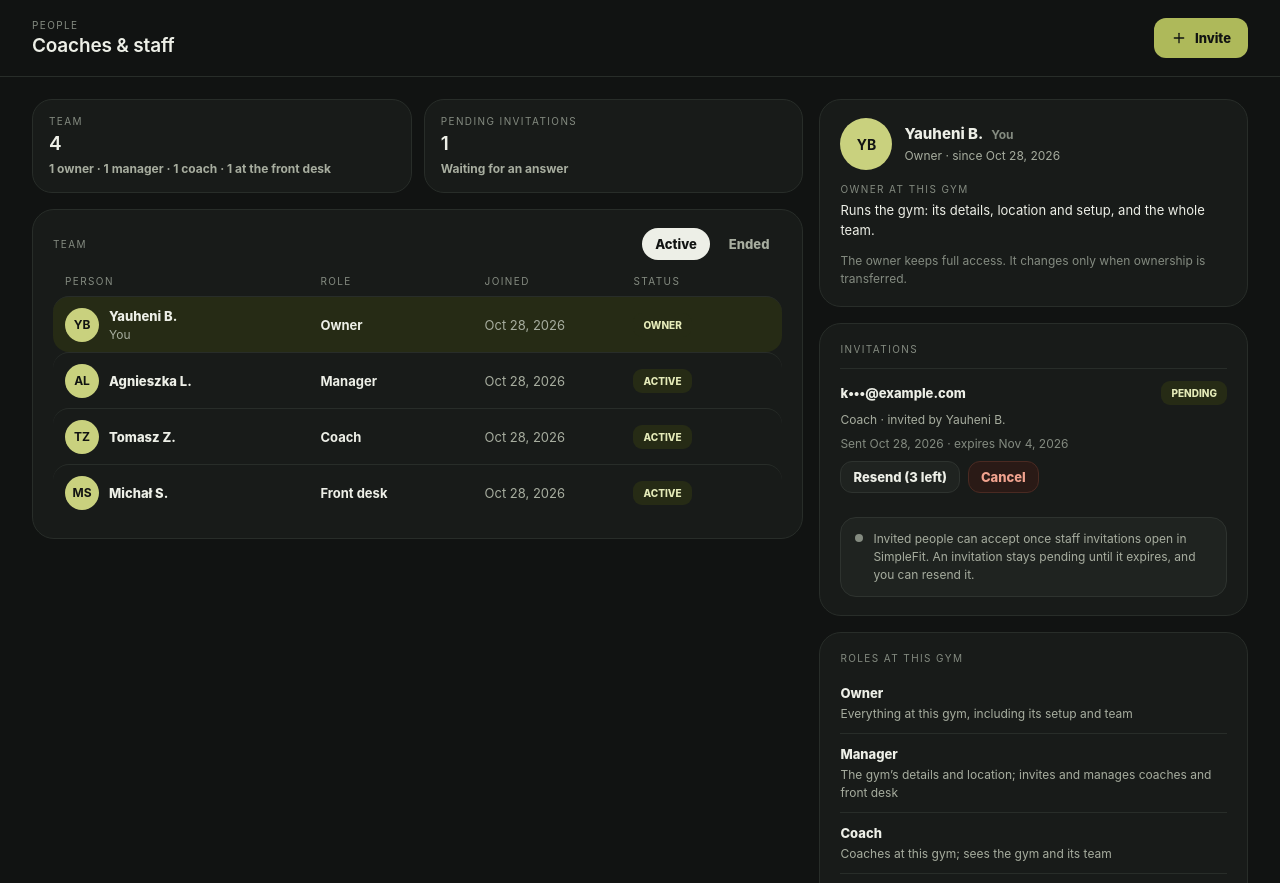
Test: GymStaff (WG16, SF-94) › shows the owner the real roster, the invitations and every permitted action
This screenshot has width=1280, height=883.
Expected: the button "Yauheni B." is shown, [109,306,177,326]
Expected: the button "Tomasz Z." is shown, [109,426,176,446]
What coordinates should you click on to do the following:
click the button with aria-label "Show Agnieszka L."
I would click on:
 (150, 380)
Its box is [109,370,192,390].
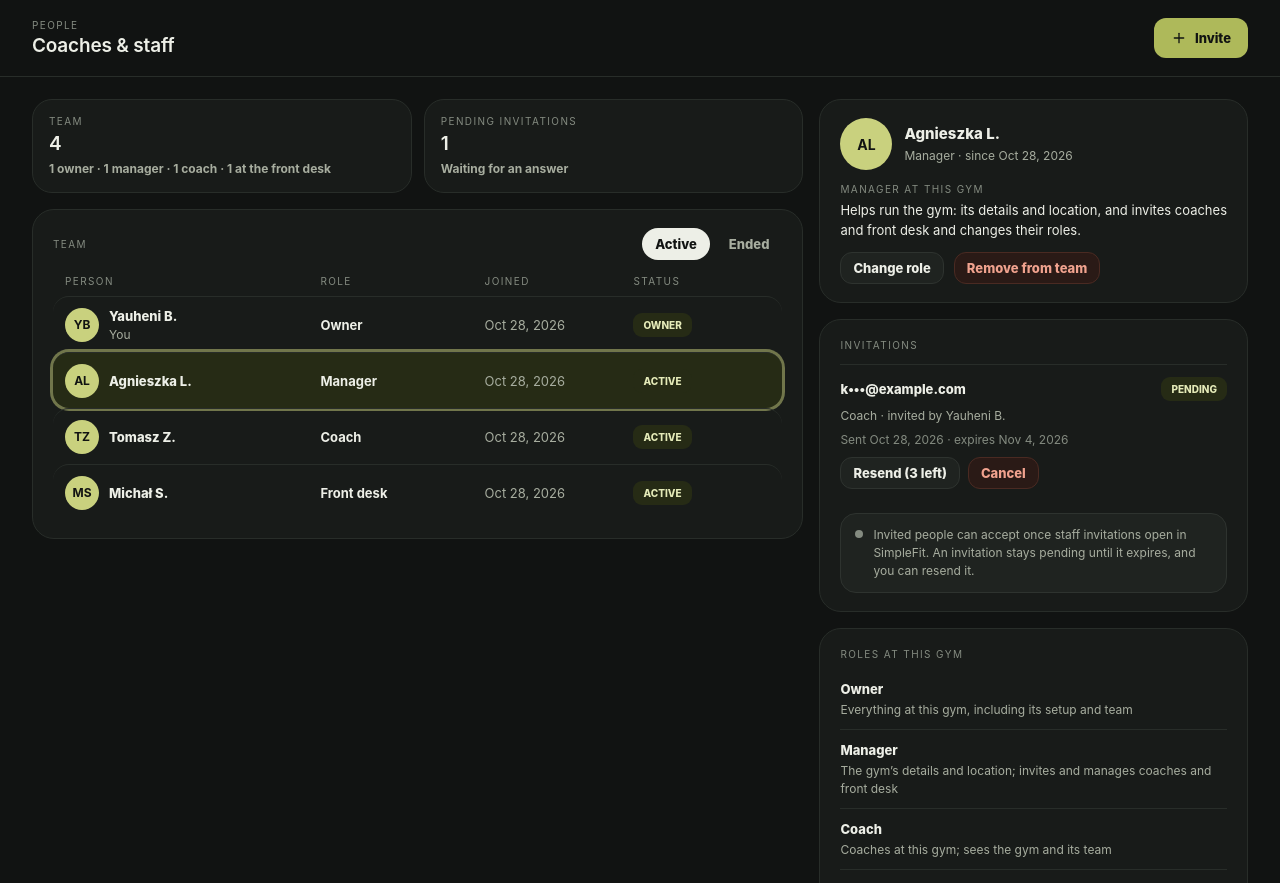
Result: the button "Change role" is shown at [840,252,944,284]
Result: the button "Remove from team" is shown at [954,252,1100,284]
